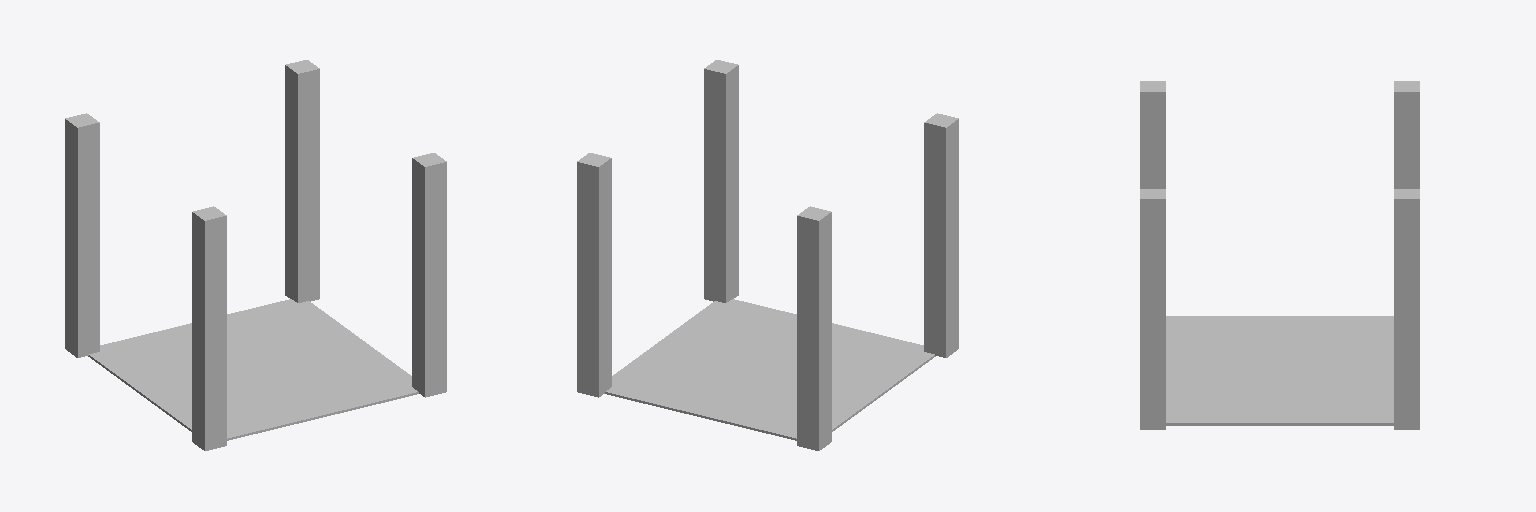
File: map2.obj
3 renders of one model, left to right at view 1: azimuth 30°, elevation 25°; view 2: azimuth 150°, elevation 25°; view 3: azimuth 270°, elevation 25°, orthographic.
Visible parts, largest first — view 1: Cube.001; view 2: Cube.001; view 3: Cube.001.
Boxes of the visible parts, x1=… form: Cube.001: x1=65, y1=60, x2=446, y2=450; Cube.001: x1=577, y1=60, x2=958, y2=450; Cube.001: x1=1140, y1=81, x2=1419, y2=429.
Bounding box in the file's own units: 22 × 20.1 × 22.